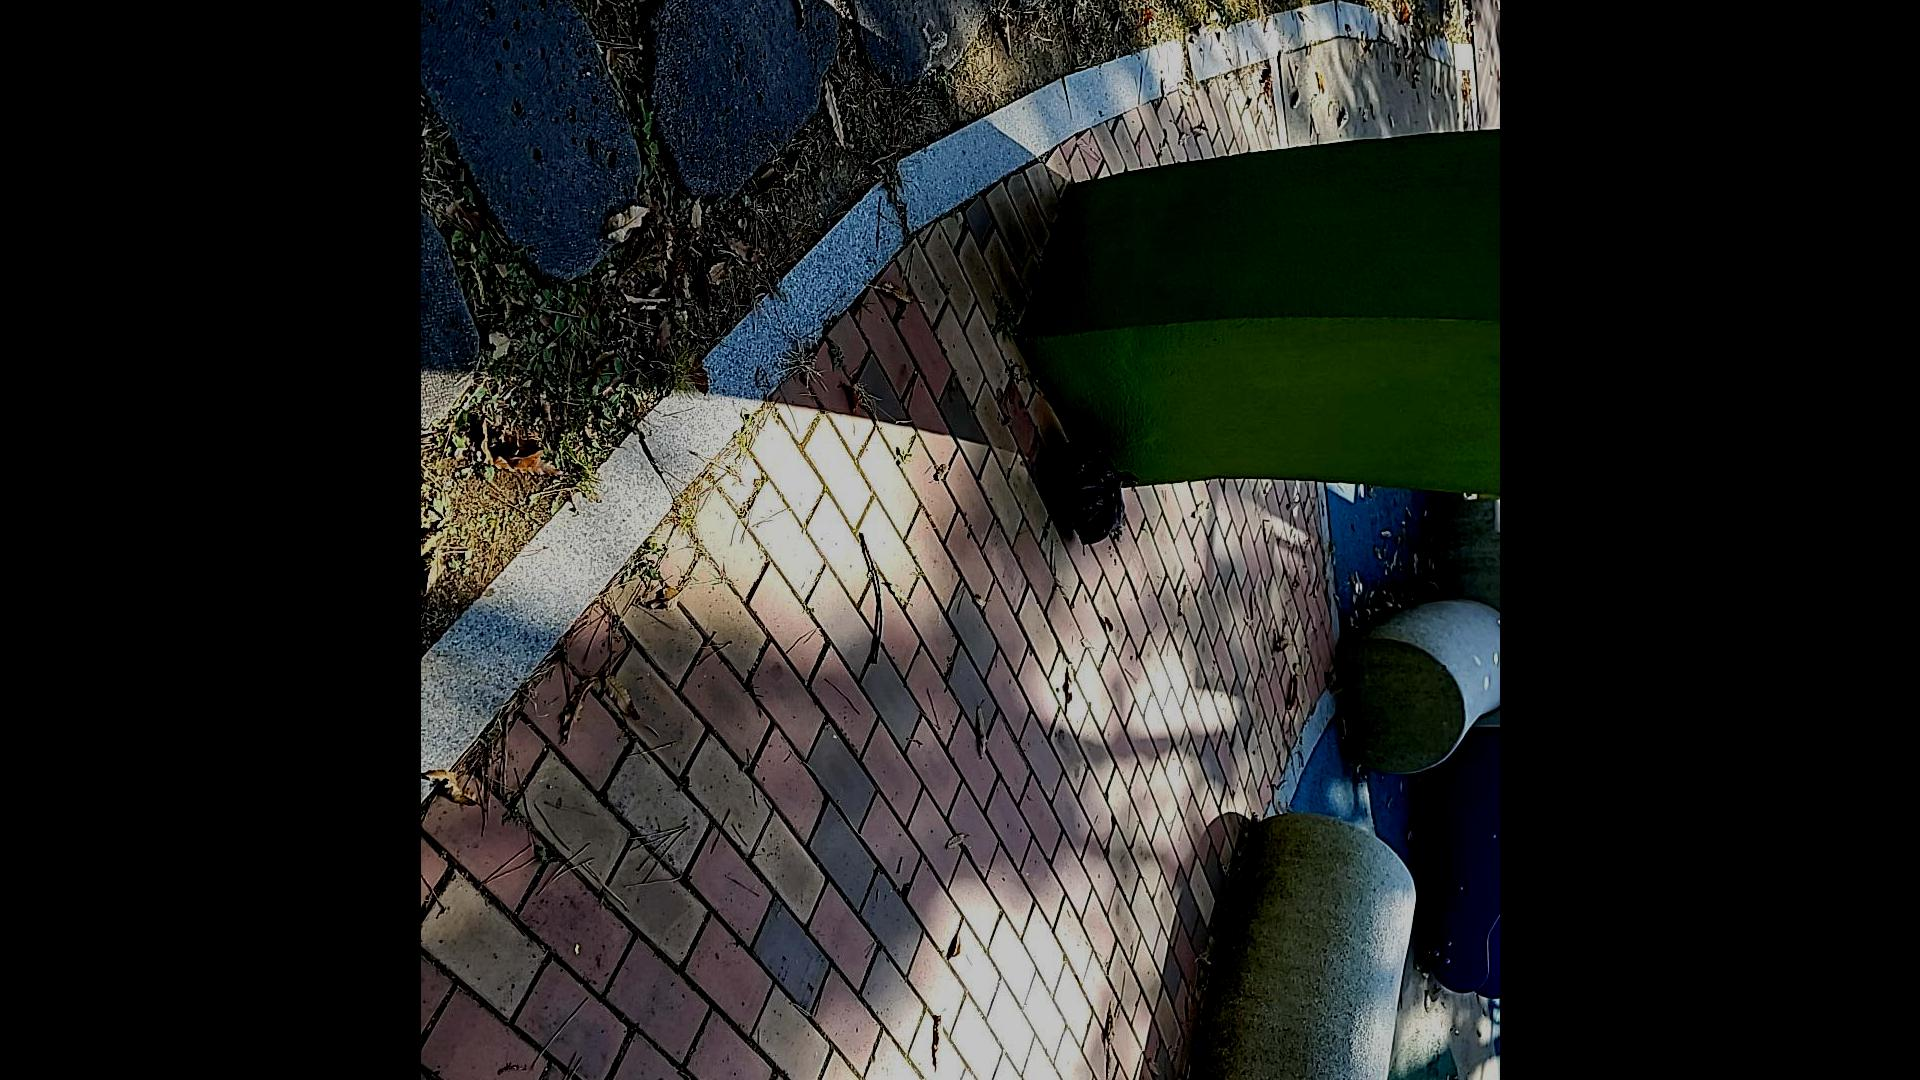black_bag: (1044, 430, 1142, 549)
